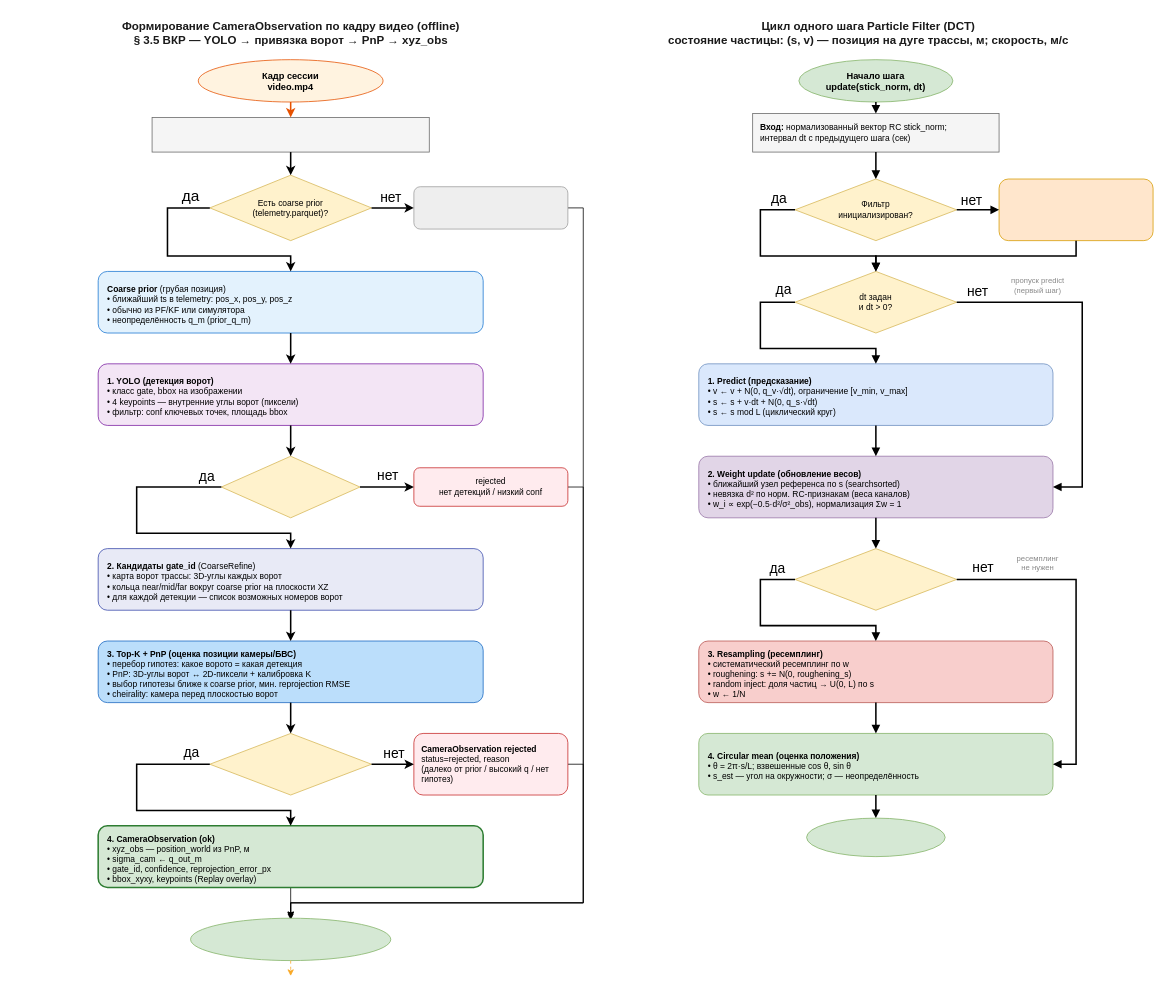
Image size: 1167x996. Some labels were removed from this diagram. Here are the shapes that lost their labels. From the top down, the box of each, then its label:
(151, 117, 429, 152): Вход кадра: frame_idx, ts_wall (из video_timestamps.parquet)
(413, 186, 568, 229): Пропуск кадра (нет привязки по времени)
(998, 178, 1153, 241): reset() частицы у старта и финиша круга; равномерные веса w = 1/N
(221, 455, 360, 518): Есть валидные детекции?
(794, 548, 957, 610): ESS < ess_thr·N? ESS = 1/Σw²
(209, 733, 372, 795): refine.success и q_out допустим?
(806, 817, 945, 857): Выход: s_est, σ
(190, 917, 391, 961): Запись camera_observations.jsonl
